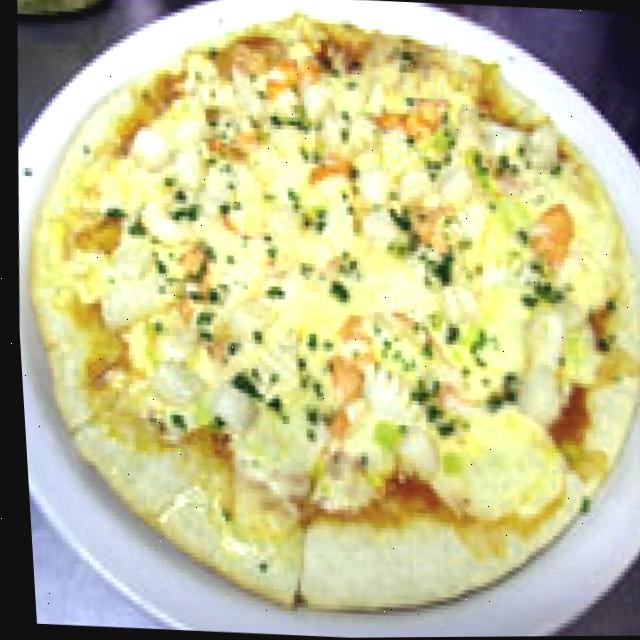汉堡快餐: (0, 0, 640, 626)
